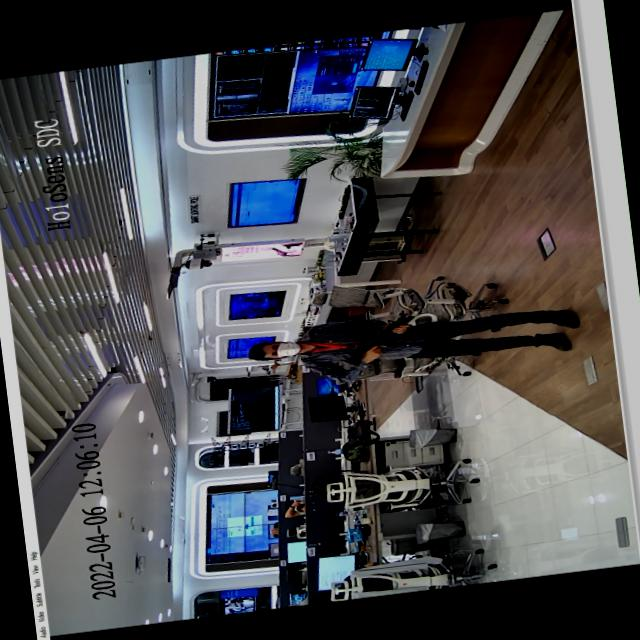long weapon: (334, 310, 426, 366)
